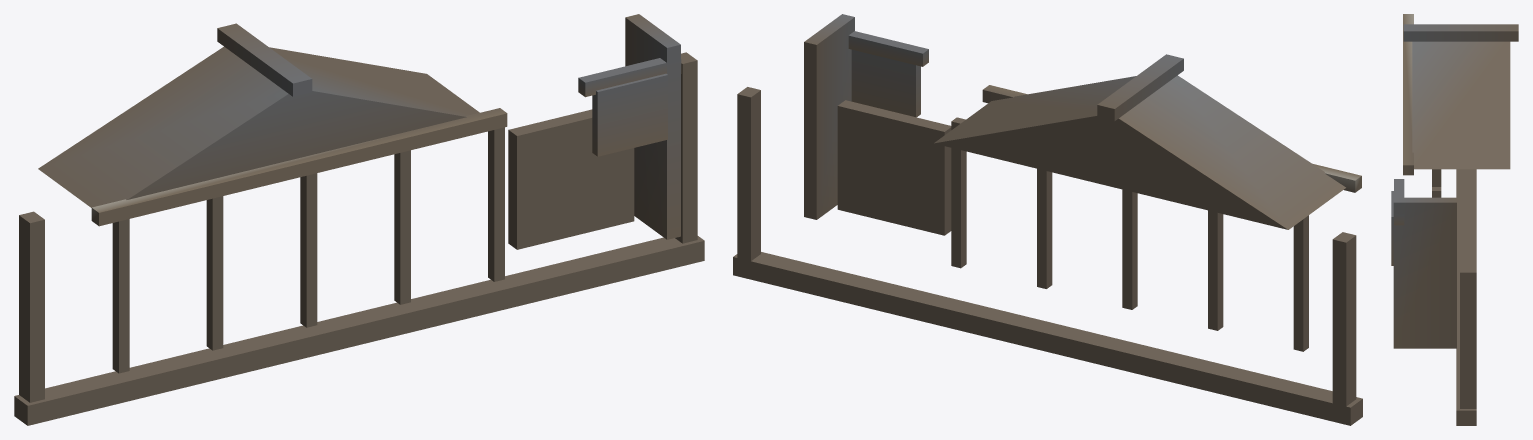
Rendered from roofline_store.glb.
3 views of the same model, side by side, from view 1: azimuth 30°, elevation 25°; view 2: azimuth 150°, elevation 25°; view 3: azimuth 270°, elevation 25° (orthographic). The views are drawn at different scales.
Parts seen in each view (by area): view 1: roofline_store; view 2: roofline_store; view 3: roofline_store.
Part boxes in pixels (box(x1,y1,x2,y2)): roofline_store: box(14, 14, 704, 425); roofline_store: box(733, 14, 1362, 425); roofline_store: box(1391, 14, 1518, 425).
Size of the model in its own units: 6.35 by 2.79 by 1.37.
